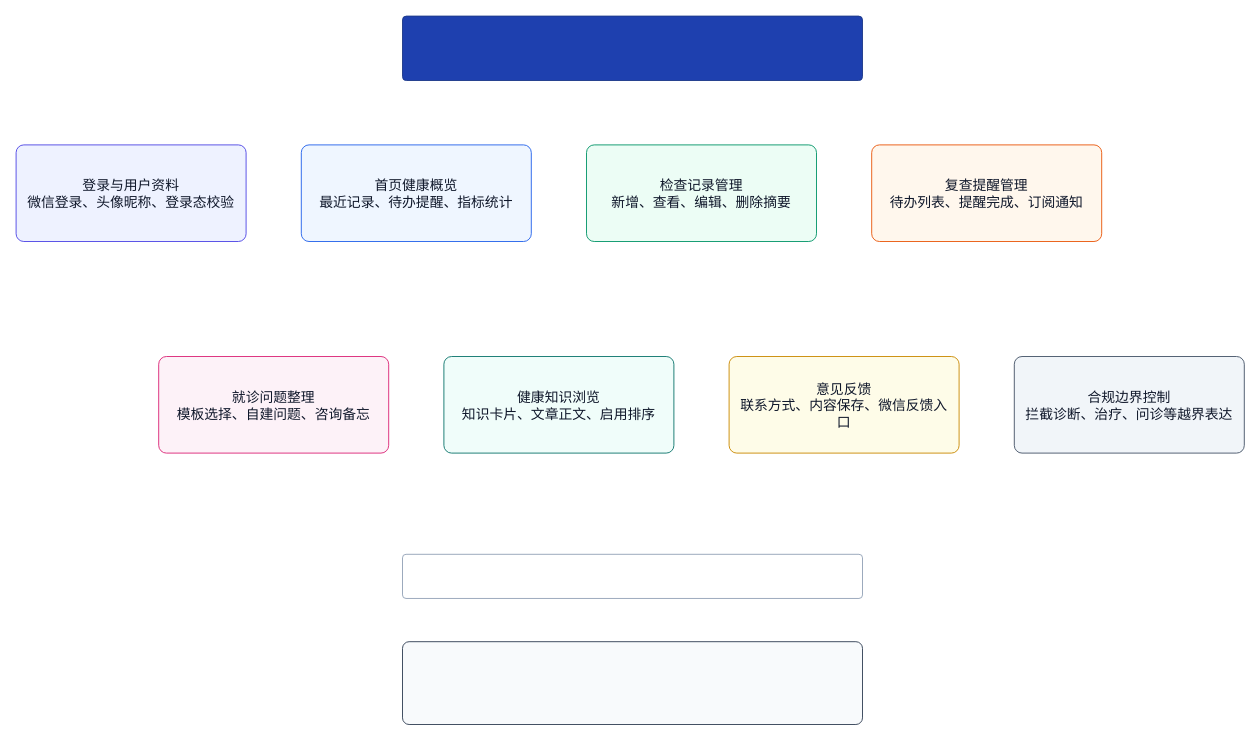
This 1260x741 diagram has some shape labels left out. Each missing label, with the centre of its shape:
MySQL 数据层 用户、会话、检查记录、复查提醒、问题、文章、反馈: the point at 632,682
云端智诊女性健康管理小程序: the point at 632,47
各功能模块通过统一 API 读写数据层: the point at 632,575
